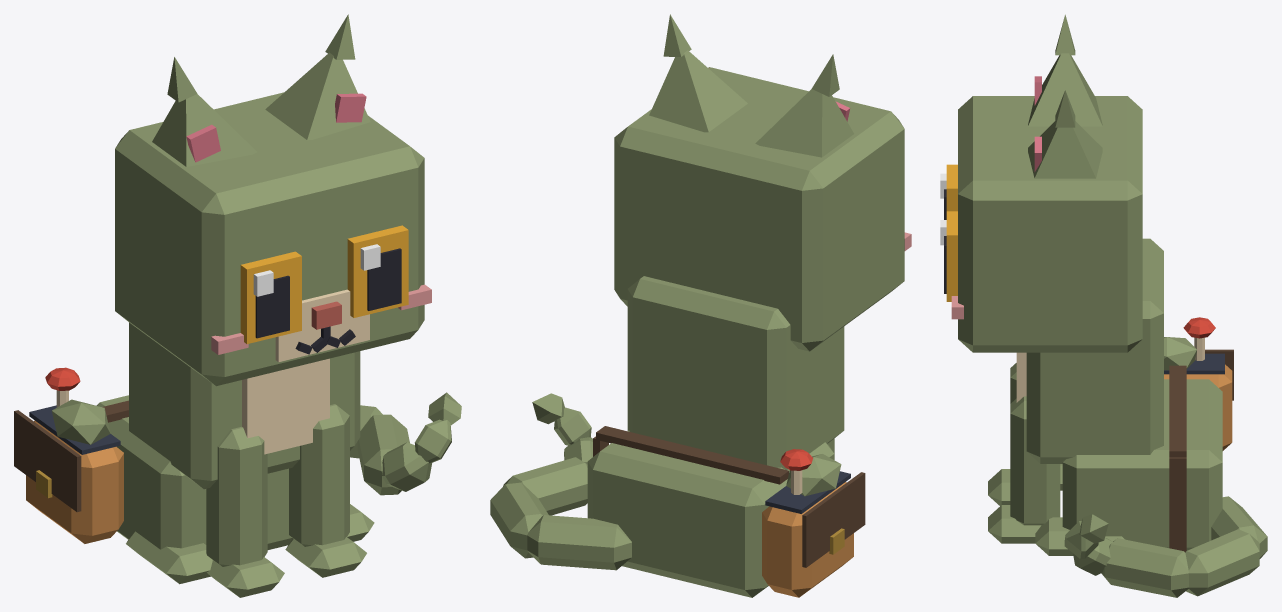
The model's file is CatCafe_Cat_Moss_Sit.fbx.
3 renders of one model, left to right at view 1: azimuth 30°, elevation 25°; view 2: azimuth 150°, elevation 25°; view 3: azimuth 270°, elevation 25°, orthographic. The views are drawn at different scales.
Parts seen in each view (by area): view 1: CatCafe_Cat_Moss_Sit_Head, CatCafe_Cat_Moss_Sit_Body, CatCafe_Cat_Moss_Sit_LegF2, CatCafe_Cat_Moss_Sit_LegF1, CatCafe_Cat_Moss_Sit_Tail, CatCafe_Cat_Moss_Sit_EarL, CatCafe_Cat_Moss_Sit_EarR, CatCafe_Cat_Moss_Sit_Eye2, CatCafe_Cat_Moss_Sit_Eye1; view 2: CatCafe_Cat_Moss_Sit_Body, CatCafe_Cat_Moss_Sit_Head, CatCafe_Cat_Moss_Sit_Tail, CatCafe_Cat_Moss_Sit_EarL, CatCafe_Cat_Moss_Sit_EarR; view 3: CatCafe_Cat_Moss_Sit_Head, CatCafe_Cat_Moss_Sit_Body, CatCafe_Cat_Moss_Sit_Tail, CatCafe_Cat_Moss_Sit_LegF1, CatCafe_Cat_Moss_Sit_EarL, CatCafe_Cat_Moss_Sit_EarR, CatCafe_Cat_Moss_Sit_Eye1, CatCafe_Cat_Moss_Sit_LegF2, CatCafe_Cat_Moss_Sit_Eye2.
Boxes of the visible parts, x1,y1,x2,y2 form: CatCafe_Cat_Moss_Sit_Head: (115,92,431,386); CatCafe_Cat_Moss_Sit_Body: (14,322,374,584); CatCafe_Cat_Moss_Sit_LegF2: (206,426,284,597); CatCafe_Cat_Moss_Sit_LegF1: (285,404,366,577); CatCafe_Cat_Moss_Sit_Tail: (350,392,461,495); CatCafe_Cat_Moss_Sit_EarL: (265,14,370,140); CatCafe_Cat_Moss_Sit_EarR: (152,57,257,166); CatCafe_Cat_Moss_Sit_Eye2: (240,251,301,343); CatCafe_Cat_Moss_Sit_Eye1: (347,225,408,317); CatCafe_Cat_Moss_Sit_Body: (587,276,865,597); CatCafe_Cat_Moss_Sit_Head: (614,67,911,351); CatCafe_Cat_Moss_Sit_Tail: (490,393,631,570); CatCafe_Cat_Moss_Sit_EarL: (649,14,747,132); CatCafe_Cat_Moss_Sit_EarR: (755,54,853,157); CatCafe_Cat_Moss_Sit_Head: (951,96,1142,352); CatCafe_Cat_Moss_Sit_Body: (1016,238,1233,555); CatCafe_Cat_Moss_Sit_Tail: (1064,496,1267,597); CatCafe_Cat_Moss_Sit_LegF1: (988,396,1060,543); CatCafe_Cat_Moss_Sit_EarL: (1028,90,1102,178); CatCafe_Cat_Moss_Sit_EarR: (1028,14,1102,126); CatCafe_Cat_Moss_Sit_Eye1: (940,211,957,301); CatCafe_Cat_Moss_Sit_LegF2: (988,363,1016,505); CatCafe_Cat_Moss_Sit_Eye2: (940,164,957,219).
Size of the model in its own units: 1.45 by 1.96 by 1.24.
Materials: 1 (1 with a texture image).
